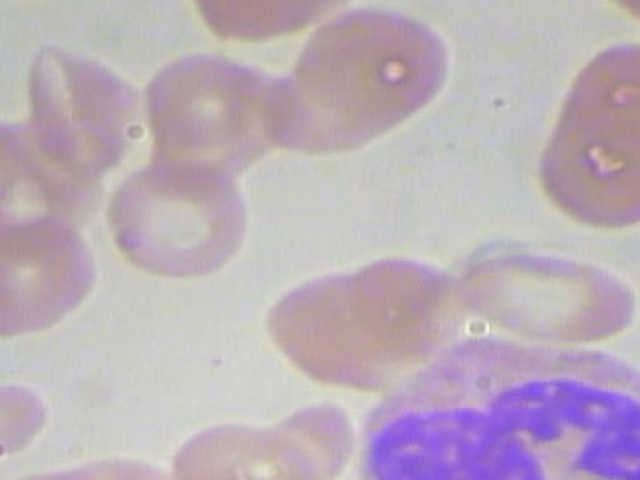RBC: (278, 3, 474, 132), (252, 266, 422, 394), (102, 160, 255, 292), (458, 243, 640, 350), (123, 47, 285, 162), (527, 100, 640, 229), (0, 213, 98, 345), (539, 26, 640, 154), (165, 413, 329, 480), (0, 0, 4, 112)
WBC: (346, 336, 640, 480)
